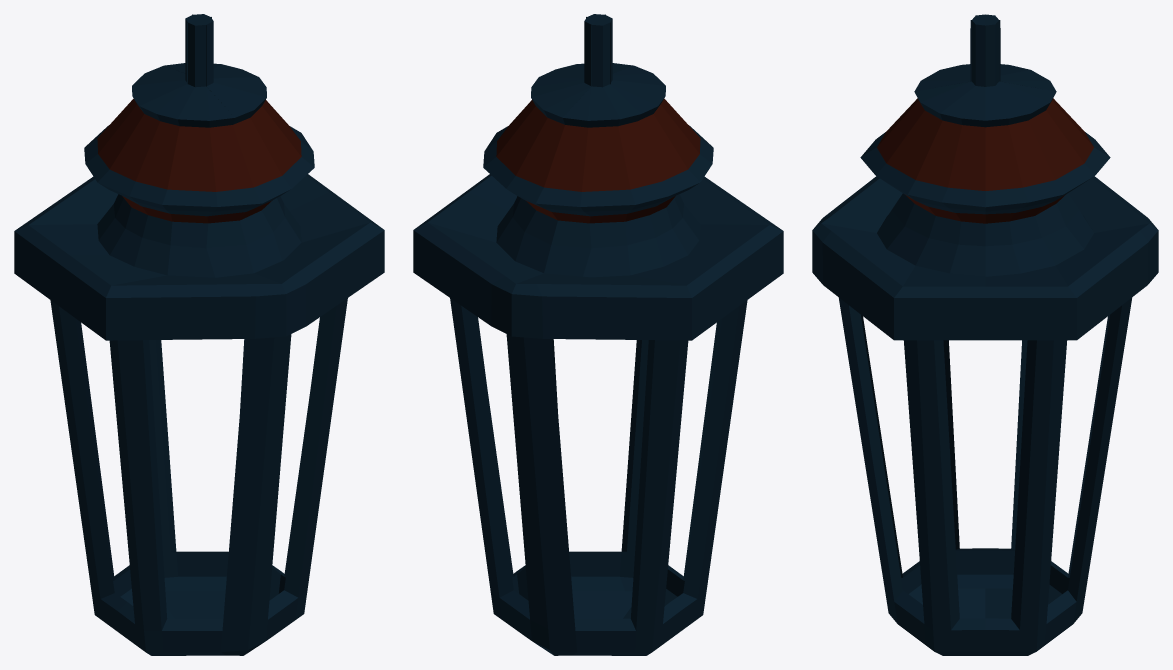
Rendered from Lamp.fbx.
3 renders of one model, left to right at view 1: azimuth 30°, elevation 25°; view 2: azimuth 150°, elevation 25°; view 3: azimuth 270°, elevation 25°, orthographic.
Parts seen in each view (by area): view 1: LampV2; view 2: LampV2; view 3: LampV2.
Boxes of the visible parts, x1=… form: LampV2: x1=14, y1=14, x2=384, y2=655; LampV2: x1=413, y1=14, x2=783, y2=655; LampV2: x1=812, y1=14, x2=1158, y2=655.
Size of the model in its own units: 210 by 456 by 226.
